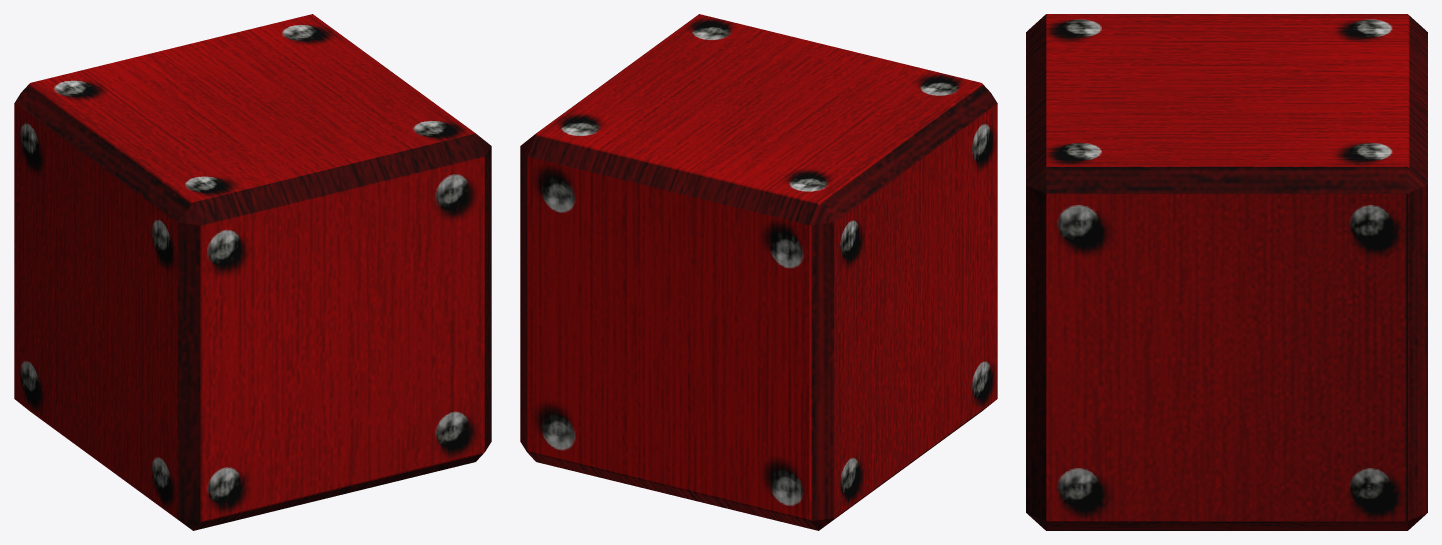
The model's file is Block_Red_Small.obj.
The picture shows the model from 3 angles, left to right: view 1: azimuth 30°, elevation 25°; view 2: azimuth 150°, elevation 25°; view 3: azimuth 270°, elevation 25°; orthographic projection. The views are drawn at different scales.
Parts seen in each view (by area): view 1: default; view 2: default; view 3: default.
Boxes of the visible parts, x1,y1,x2,y2 form: default: [14, 14, 491, 530]; default: [520, 14, 997, 530]; default: [1026, 14, 1427, 530].
Bounding box in the file's own units: 1 × 1 × 1.
